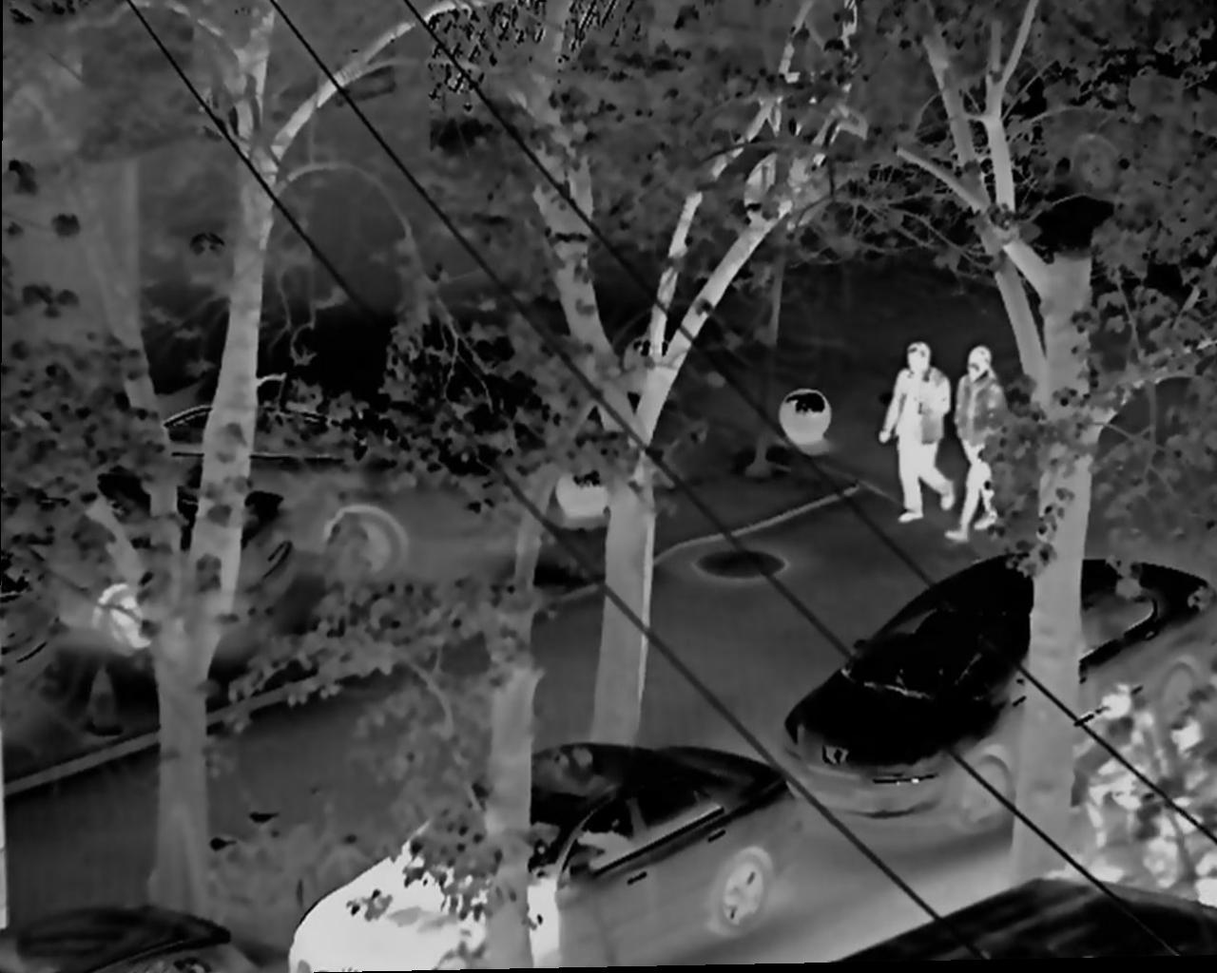person: (877, 341, 960, 533), (952, 332, 1014, 541), (1080, 682, 1167, 825), (1158, 711, 1217, 872)
